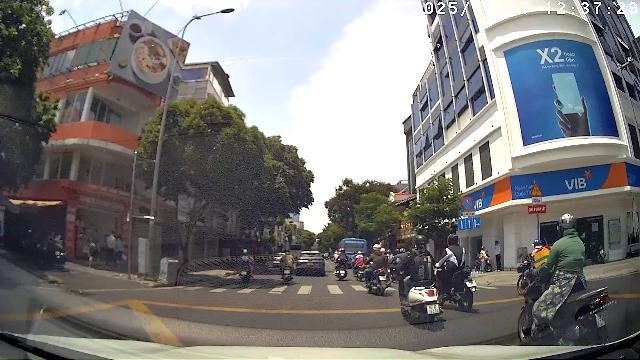131a-cam-do-xe: (462, 197, 476, 211)
